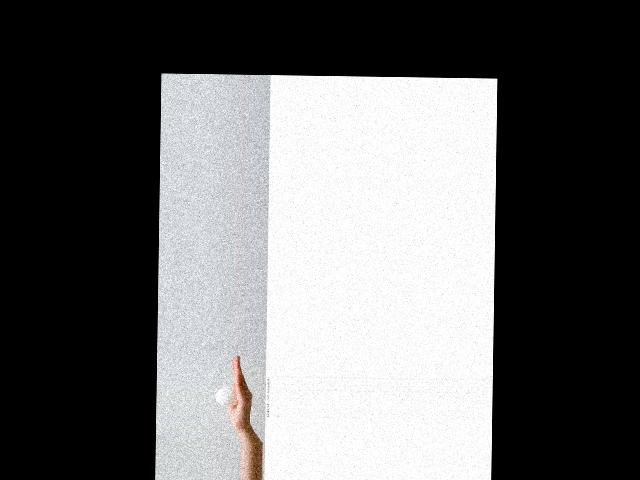egg: (215, 386, 238, 405)
